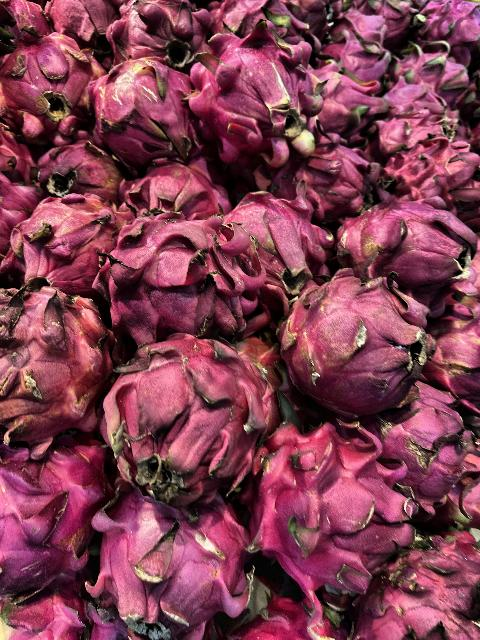buah-naga-matang: (244, 411, 412, 603), (102, 334, 283, 496), (88, 478, 264, 640), (285, 270, 441, 416), (0, 277, 118, 457), (102, 208, 246, 332), (190, 31, 316, 158), (219, 182, 353, 294), (1, 444, 96, 598), (88, 54, 210, 172), (11, 190, 139, 302), (336, 192, 478, 292), (0, 19, 98, 132), (273, 138, 379, 215)
